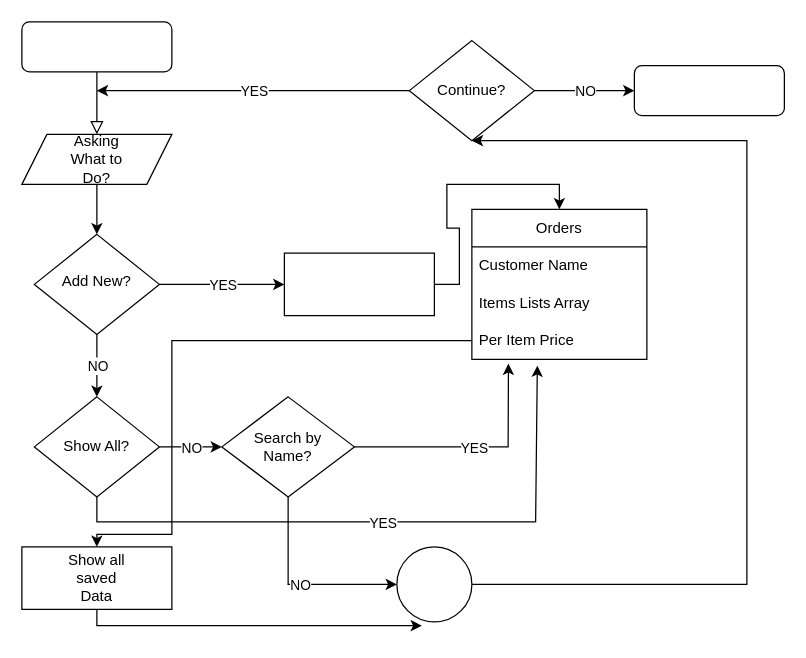
The diagram is 806 pixels wide and 658 high, and some of its shapes have lost their labels. Each missing label, with the centre of its shape:
Add New Invoice: the point at 358,284
Start: the point at 96,46
Stop: the point at 708,90
